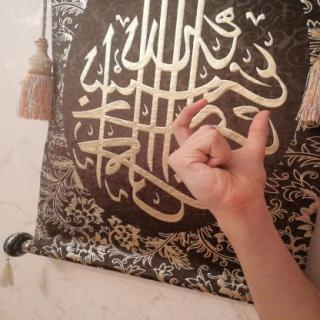NOON: (157, 92, 281, 216)
